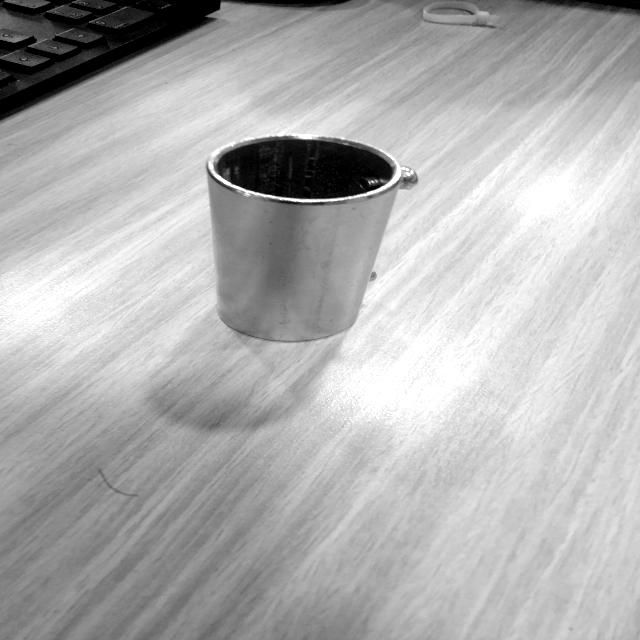Co_Lon: (205, 125, 429, 347)
